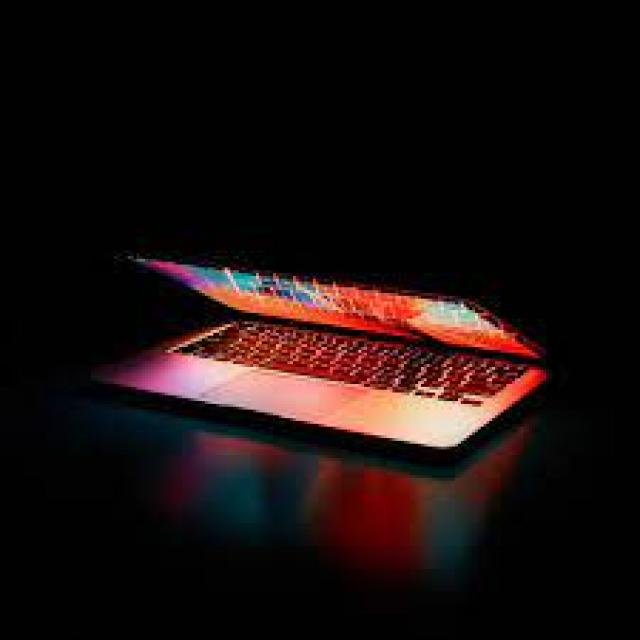others: (82, 199, 569, 478)
